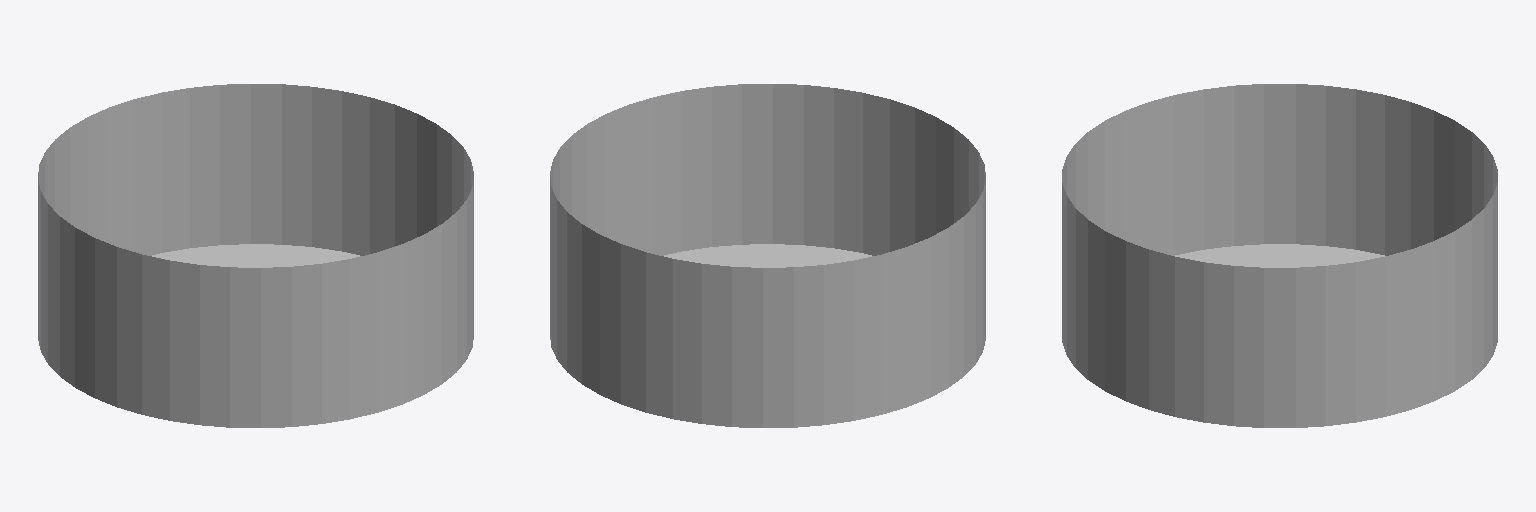
File: Circle_cube_bottle_rotated45_ext_preprocessed.obj
3 renders of one model, left to right at view 1: azimuth 30°, elevation 25°; view 2: azimuth 150°, elevation 25°; view 3: azimuth 270°, elevation 25°, orthographic.
Bounding box in the file's own units: 0.0615 × 0.025 × 0.0615.